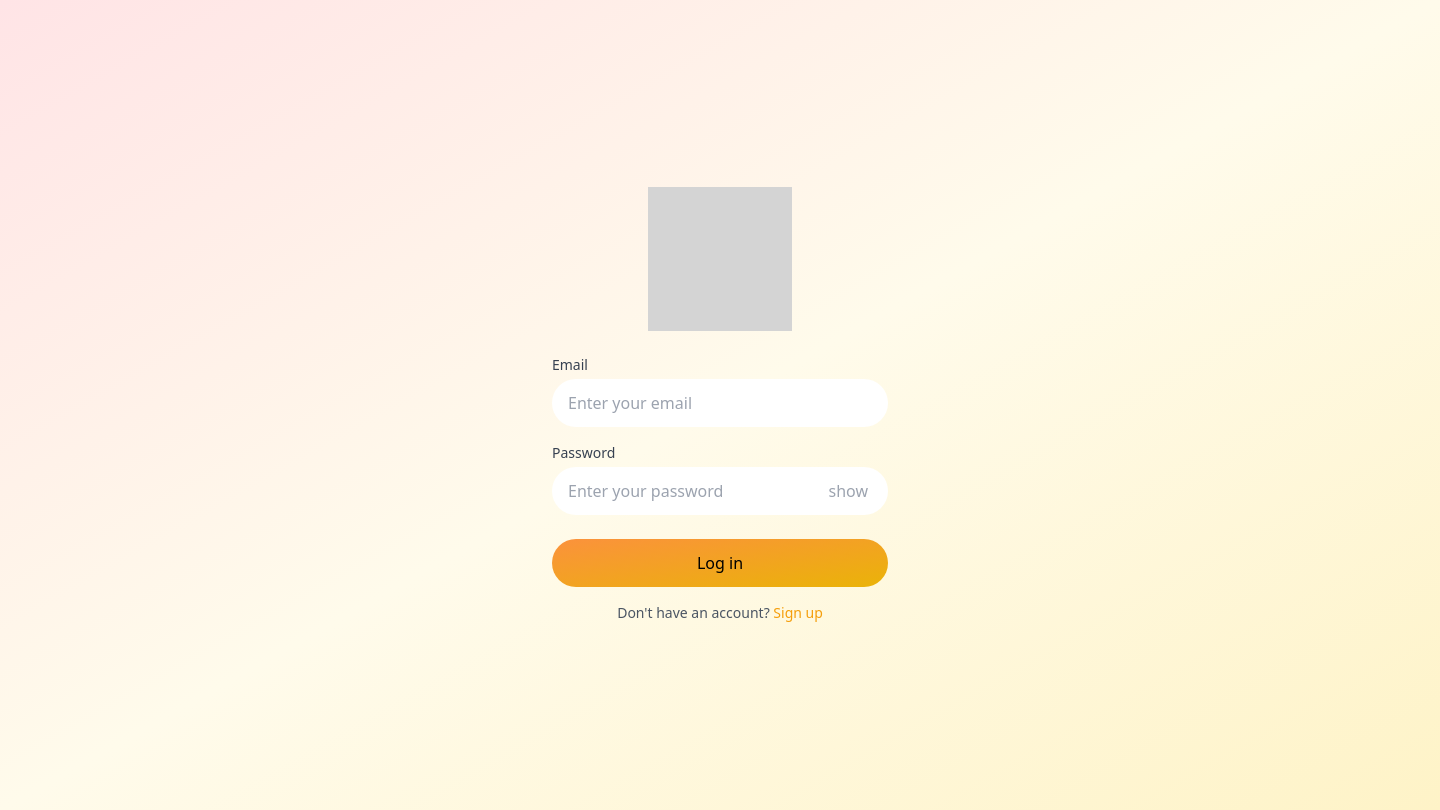
LoginPage › Form Input Handling › should clear password error when user types after error
Submit empty form to trigger error
Click the button "Log in" at (720, 563), box x1=552 y1=539 x2=888 y2=587
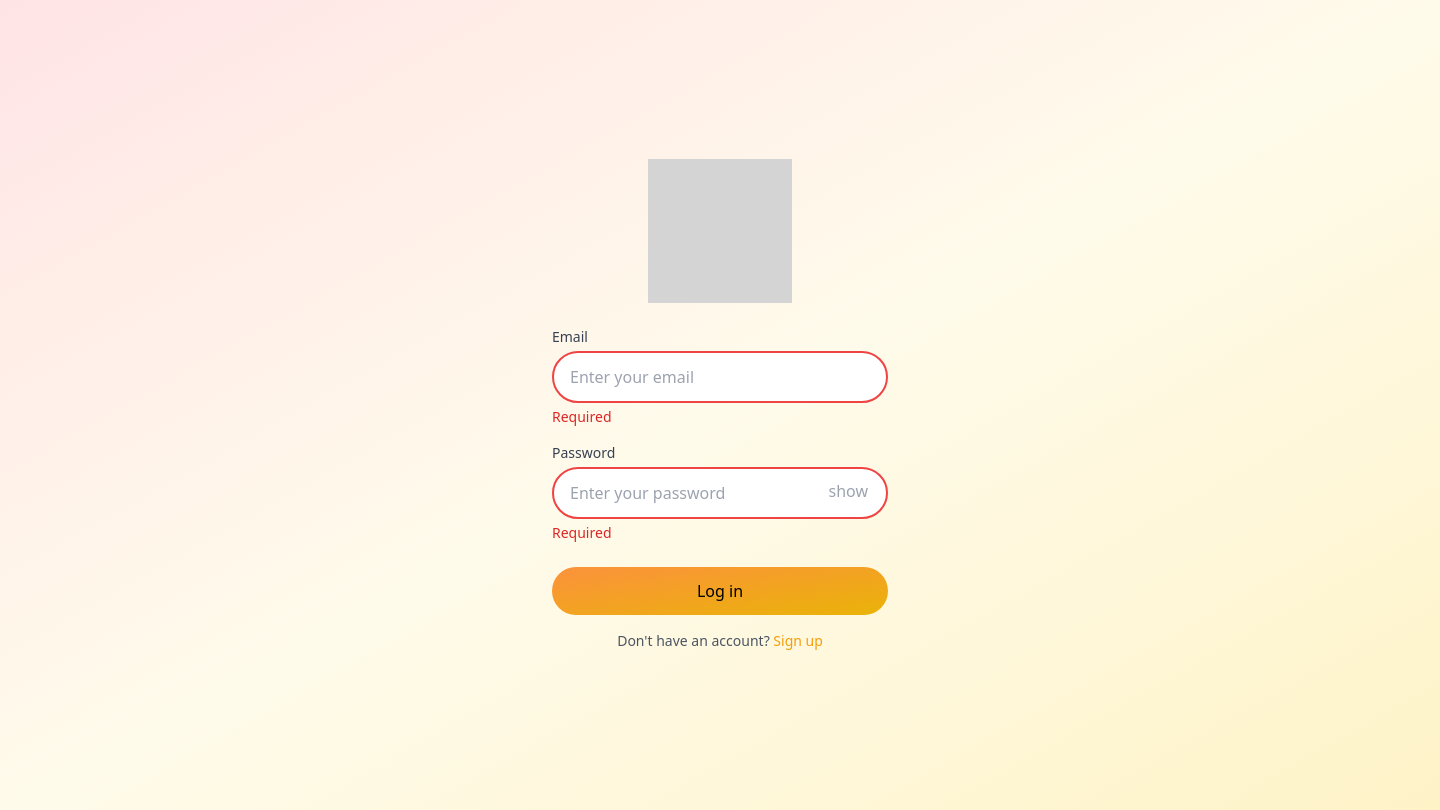
Result: the text "Required" is shown 2 times at x1=552 y1=407 x2=612 y2=426; x1=552 y1=523 x2=612 y2=542
Type in password field
Type "password" into the password field with placeholder "Enter your password" at (720, 493), box x1=552 y1=467 x2=888 y2=519
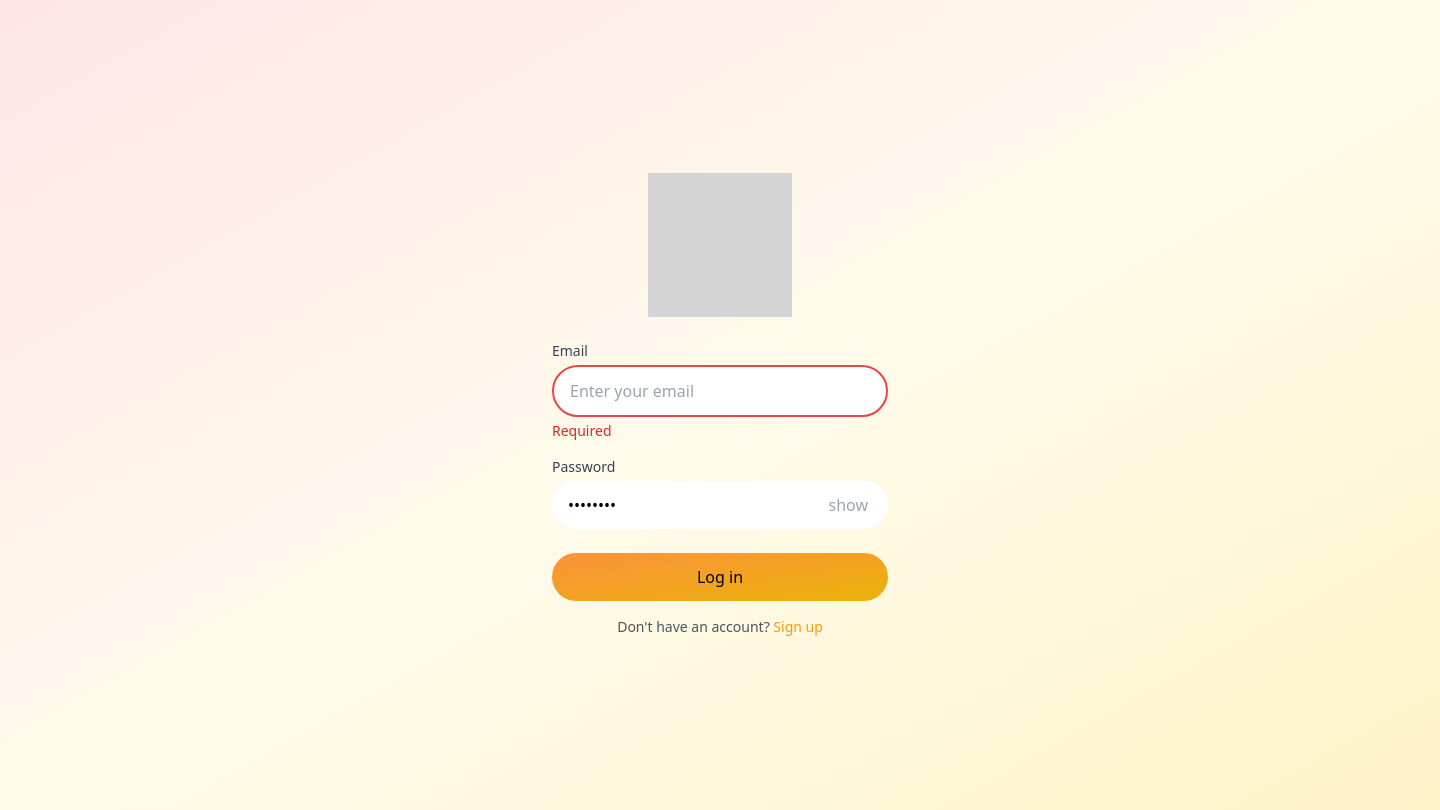
Result: the text "Required" is shown once at x1=552 y1=421 x2=612 y2=440
